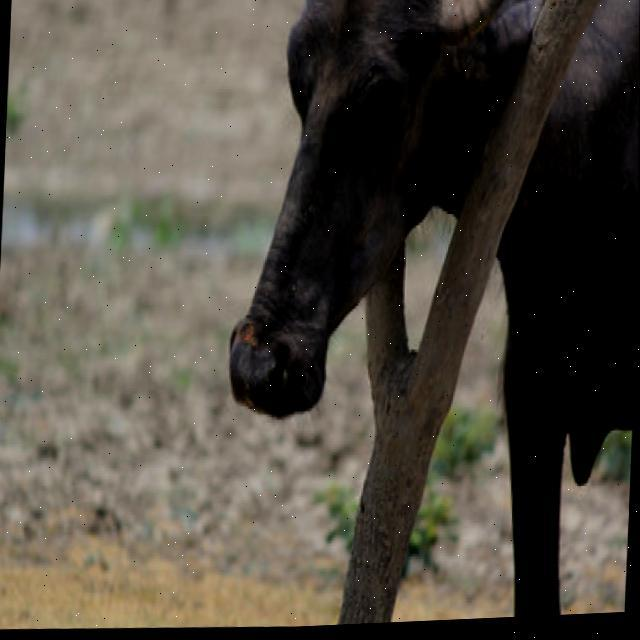Buffalo: (212, 0, 640, 630)
